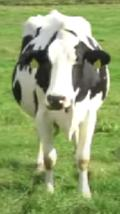cow: (12, 16, 109, 199)
